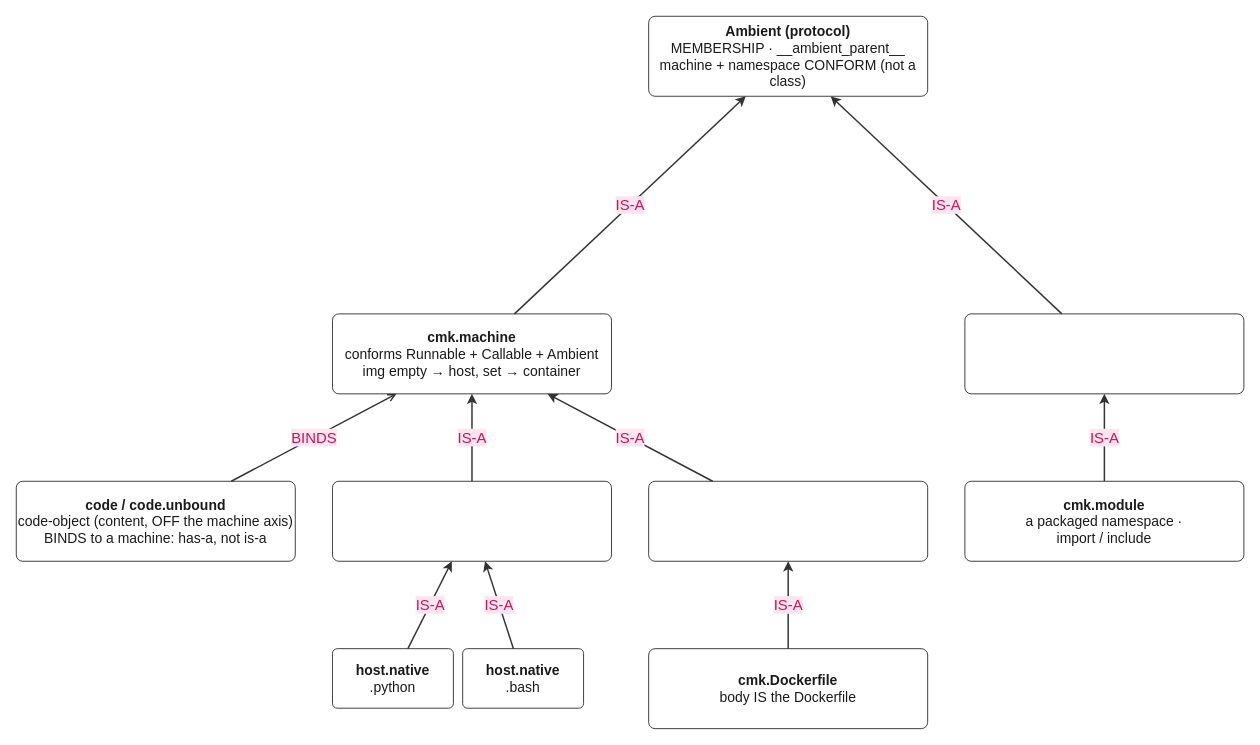
The diagram is 1260 pixels wide and 745 high, and some of its shapes have lost their labels. The box of each missing label's shape, as (x1, y1, x2, y2) in pixels:
cmk.container image-backed · .run pinned to docker: (648, 480, 928, 561)
cmk.host host-backed · .run pinned to host host.local / host.native.*: (332, 480, 611, 561)
cmk.namespace dissolve-into ambient · open (a block dissolves in): (964, 313, 1244, 394)
